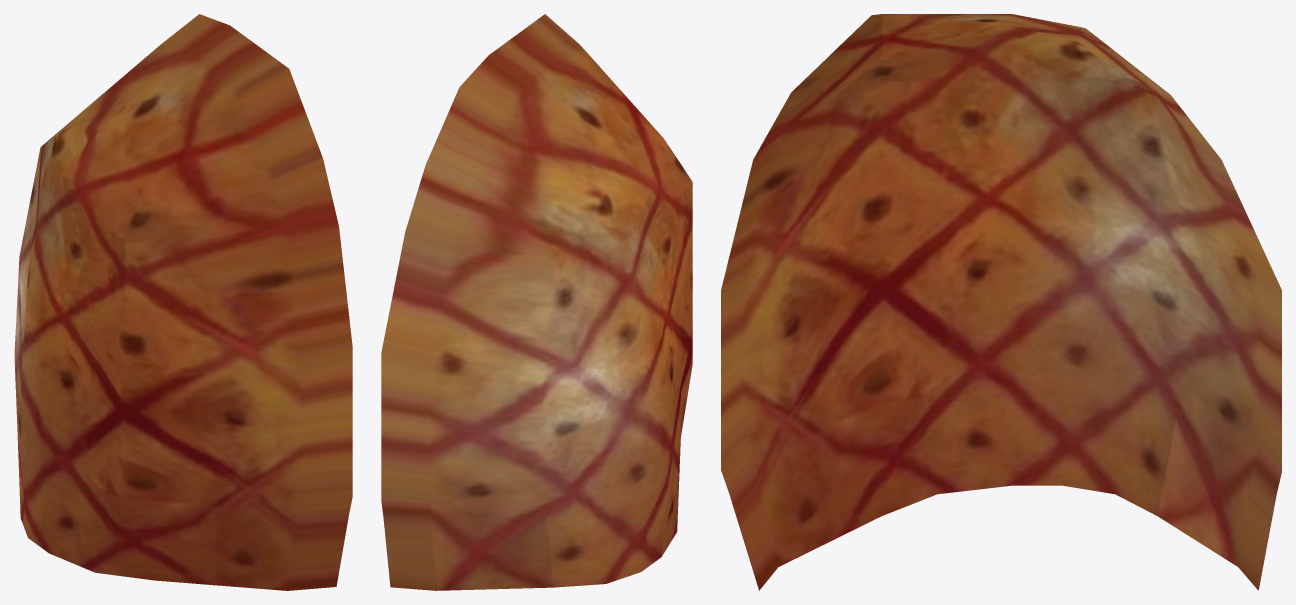
The model's file is object_2.011_lev3.glb.
3 views of the same model, side by side, from view 1: azimuth 30°, elevation 25°; view 2: azimuth 150°, elevation 25°; view 3: azimuth 270°, elevation 25° (orthographic). The views are drawn at different scales.
Parts seen in each view (by area): view 1: object_2.011_lev3; view 2: object_2.011_lev3; view 3: object_2.011_lev3.
Boxes of the visible parts, x1=… form: object_2.011_lev3: x1=14, y1=14, x2=352, y2=590; object_2.011_lev3: x1=381, y1=14, x2=692, y2=590; object_2.011_lev3: x1=721, y1=14, x2=1281, y2=590.
Size of the model in its own units: 4.12 by 10.14 by 8.95.
Materials: 1 (1 with a texture image).
